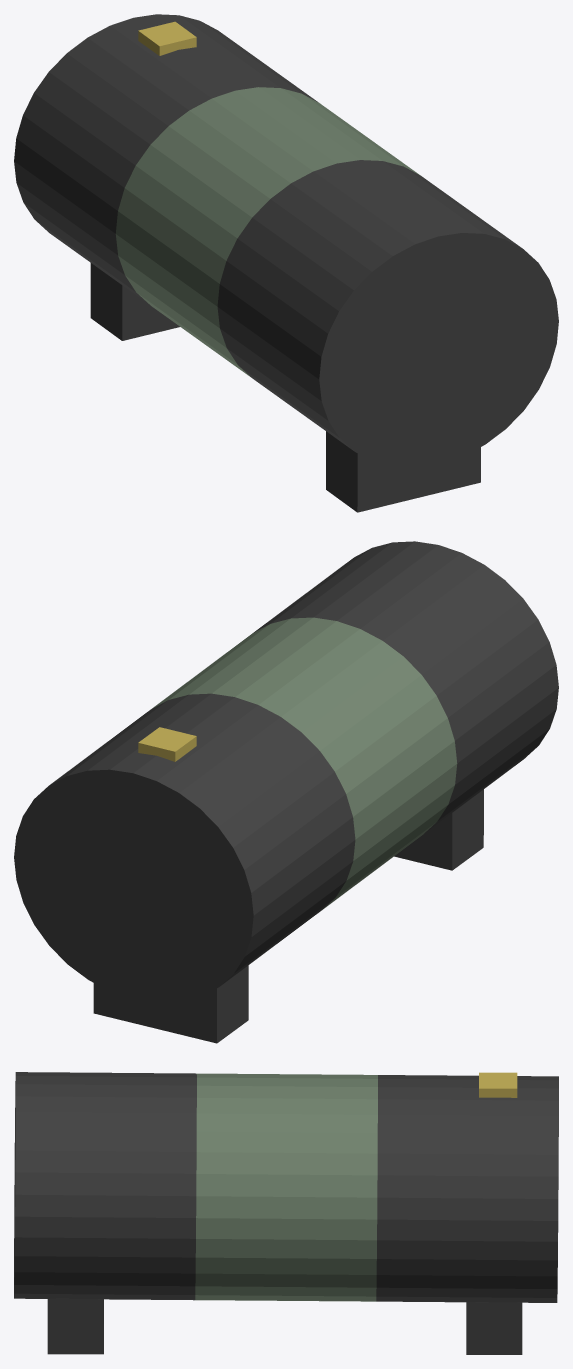
File: iz_fuel_tank_v2.fbx
The picture shows the model from 3 angles, top to bottom: view 1: azimuth 30°, elevation 25°; view 2: azimuth 150°, elevation 25°; view 3: azimuth 270°, elevation 25°; orthographic projection. The views are drawn at different scales.
Parts seen in each view (by area): view 1: Cylinder; view 2: Cylinder; view 3: Cylinder.
Part boxes in pixels (x1,y1,x2,y2): Cylinder: (14, 14, 558, 512); Cylinder: (14, 541, 558, 1043); Cylinder: (14, 1072, 558, 1354).
Bounding box in the file's own units: 600 × 667 × 1328.
